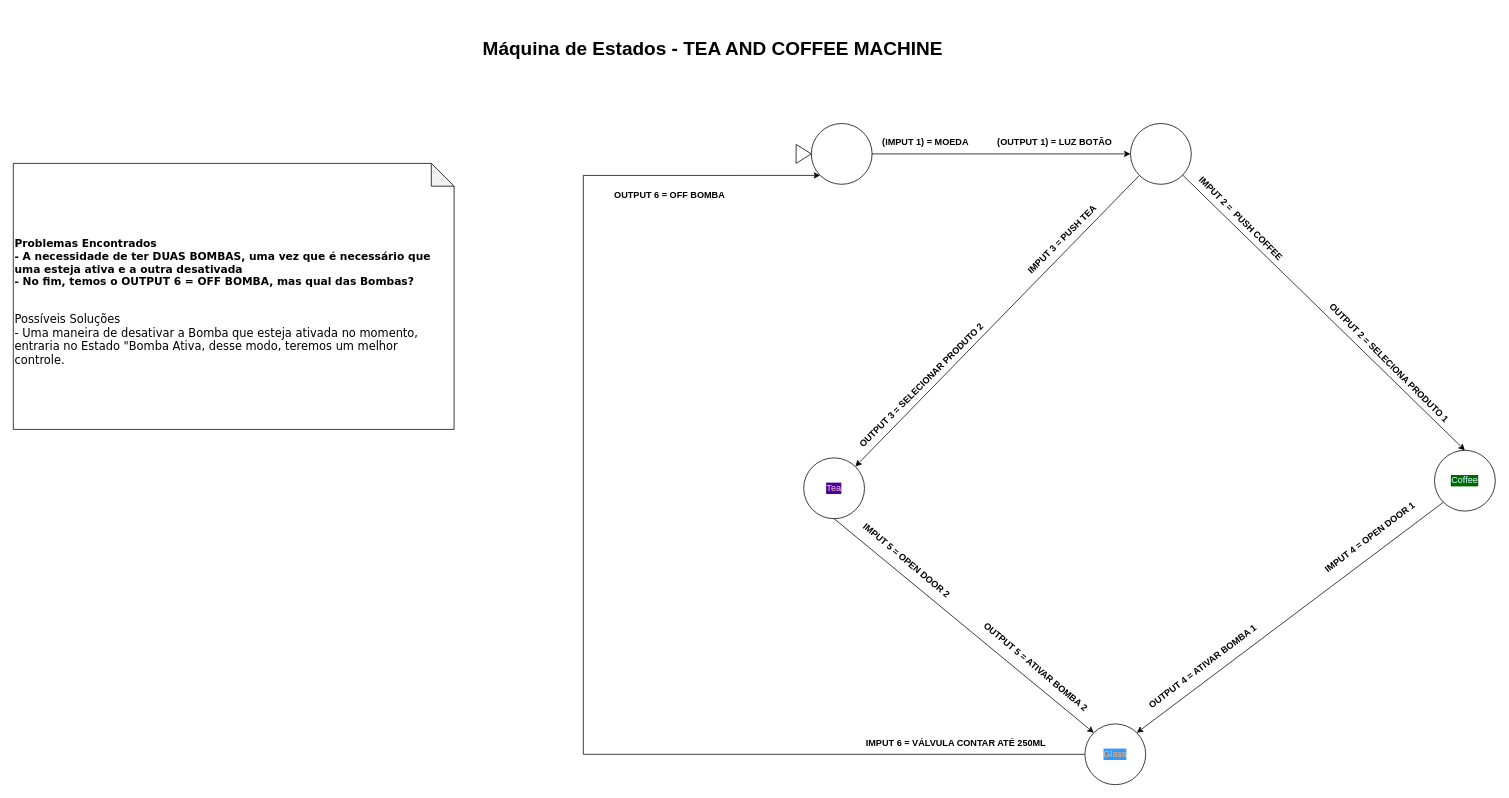
Image size: 1509x798. Some labels were removed from this diagram. Here are the shapes that lost their labels. From the top down, the box of each, then its label:
(811, 123, 872, 184): START
(1130, 123, 1191, 184): Button
